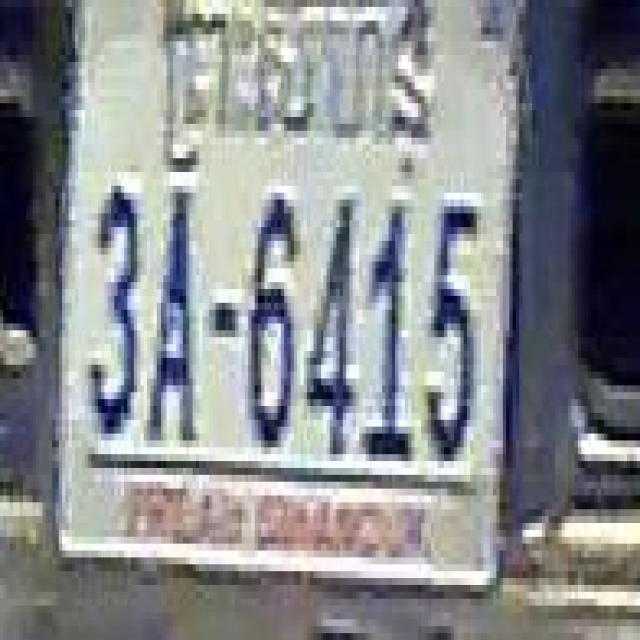Preah_Sihanouk: (160, 7, 430, 182)
